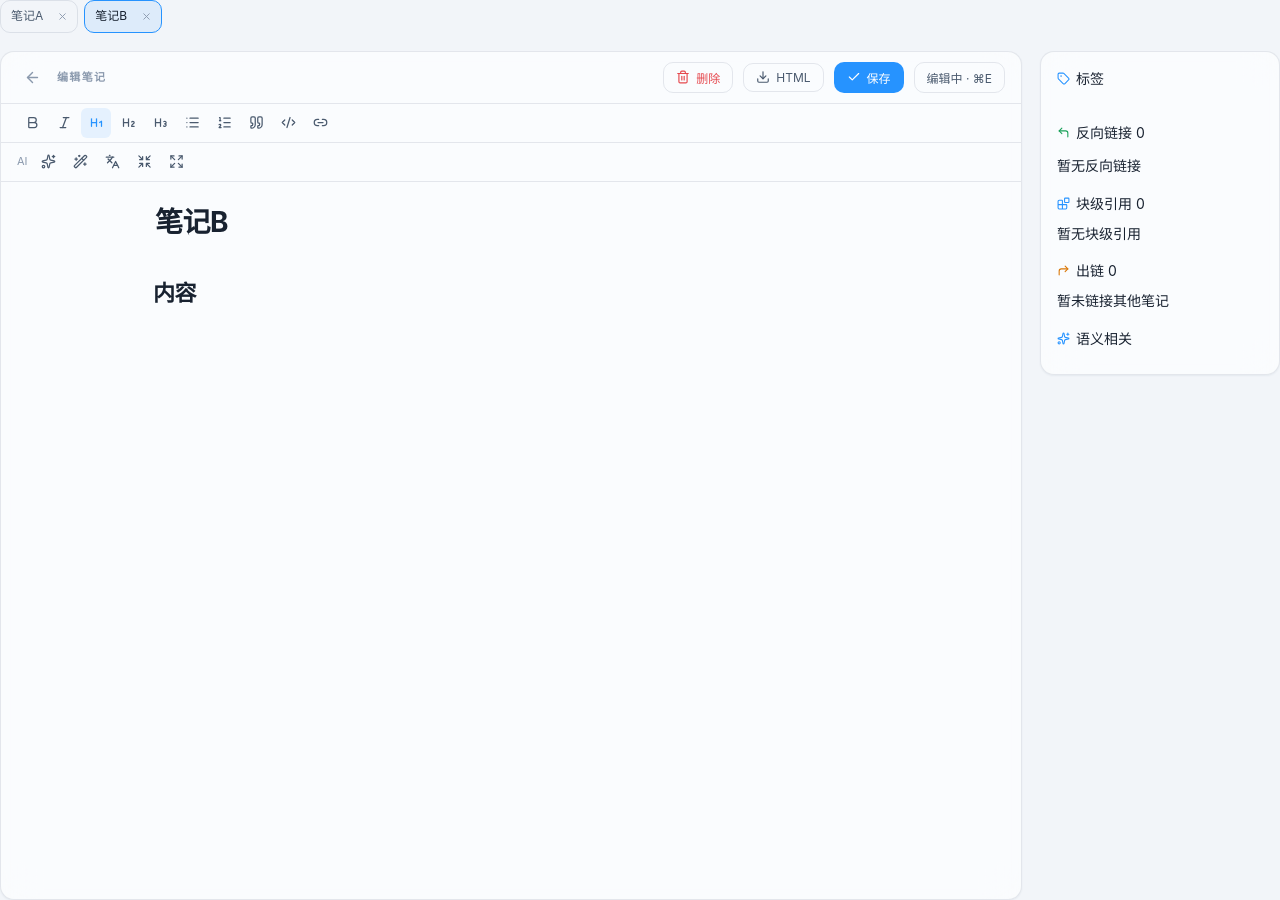
Test: NotesPage 多标签页 › 重复打开同一笔记只保留一个标签页
Expected: the field showing "笔记B" is shown, [153,202,869,238]
Expected: the number of elements with class "lumina-tab" is 2, [0,0,78,33]; [84,0,162,33]
Click the button with class "lumina-tab-close" next to "笔记A".
click(59, 16)  # box [51,8,67,24]
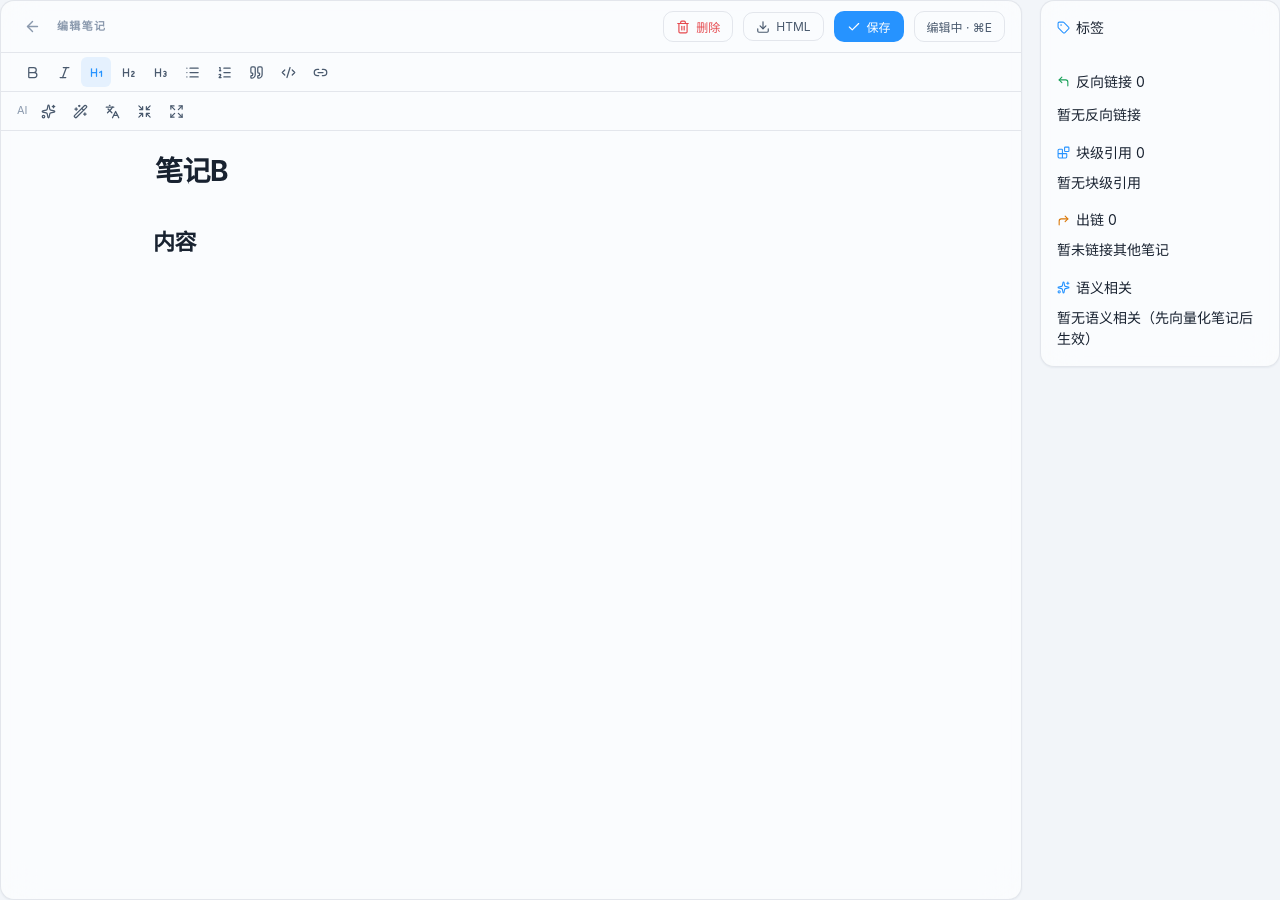
Expected: the field showing "笔记B" is shown, [153,151,869,187]
Result: no elements with class "lumina-tab" are shown
